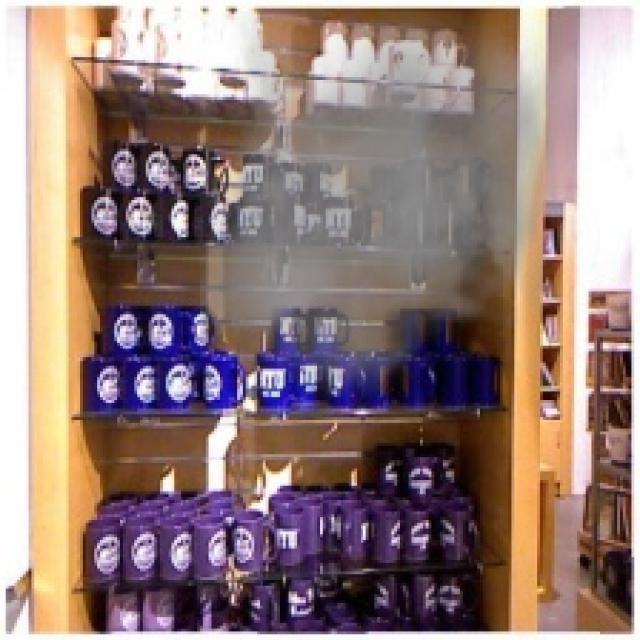Smoke: (200, 11, 563, 412)
